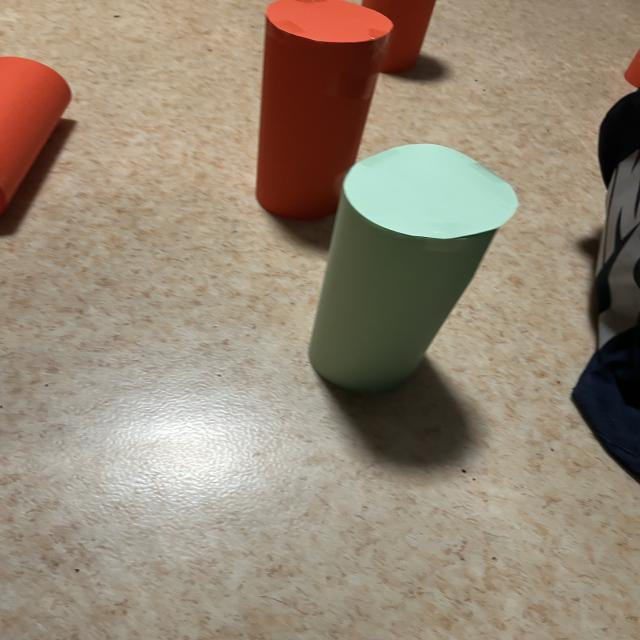meta: (309, 144, 518, 391)
przeszkoda: (256, 0, 393, 220), (0, 57, 71, 212)
